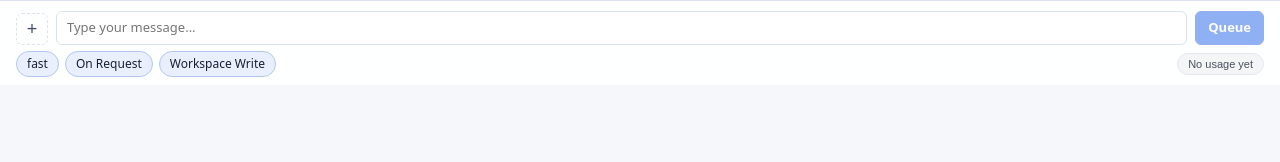
Test case: conversation queue › keeps send available during compaction and queues instead of sending immediately
In the text box with test id "message-input": (622, 28) [56,11,1187,45], type "send after compact"
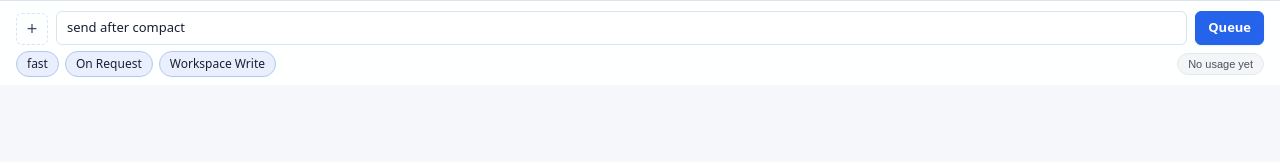
Expected: the button with test id "send-button" is enabled, [1195,11,1264,45]
Press Enter in the text box with test id "message-input", box [56,11,1187,45]
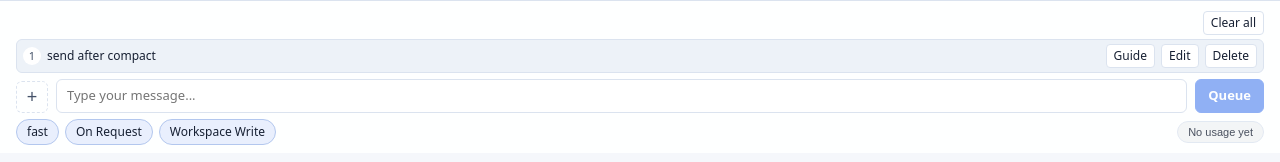
Expected: the element with test id "queued-message-list" shows "send after compact", [47,47,156,64]
